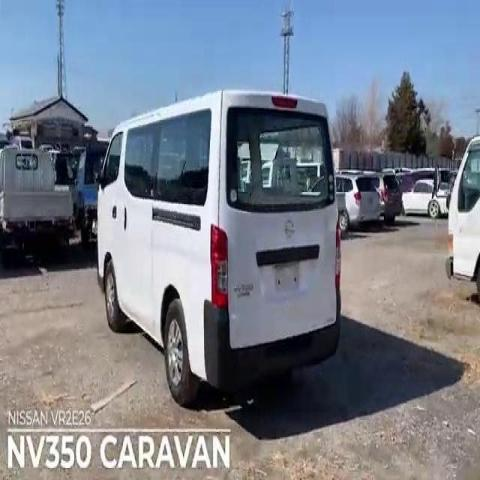car: (332, 173, 382, 233), (397, 179, 448, 226)
truck: (0, 144, 75, 266)
van: (95, 91, 342, 386)
